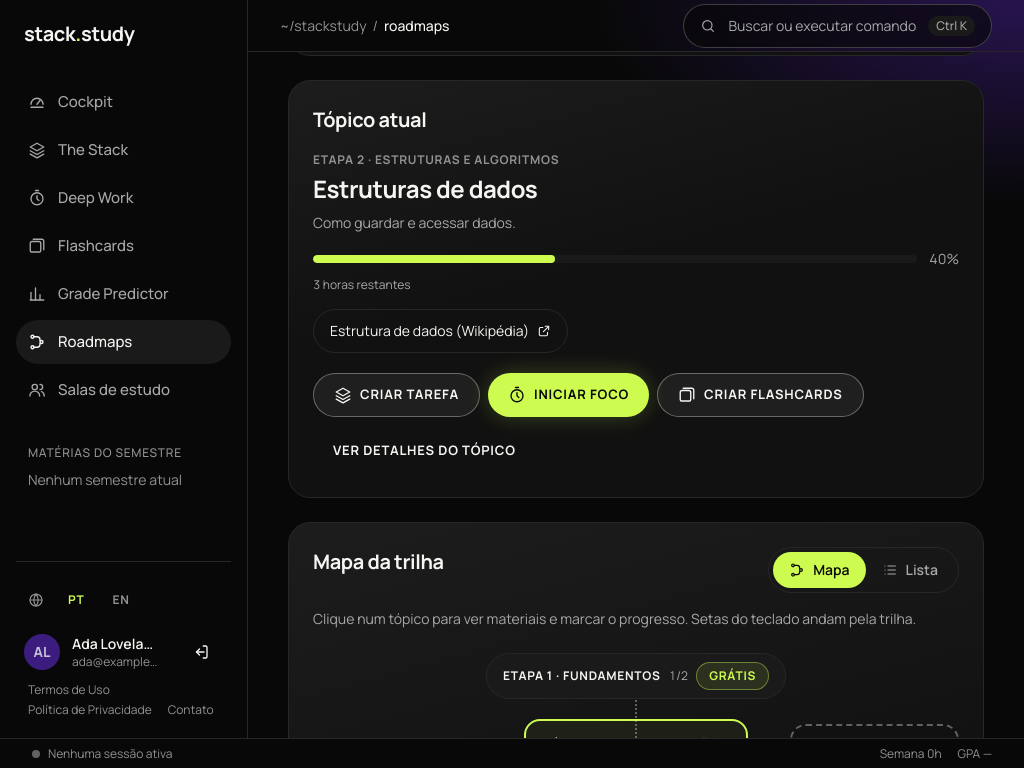
it: Roadmaps › "Iniciar foco" e "Criar tarefa" levam o tópico para as outras telas
Earlier steps of the test are not shown.
(page scrolled)
Click the button "Criar tarefa" at (396, 395), box [313,373,480,417]
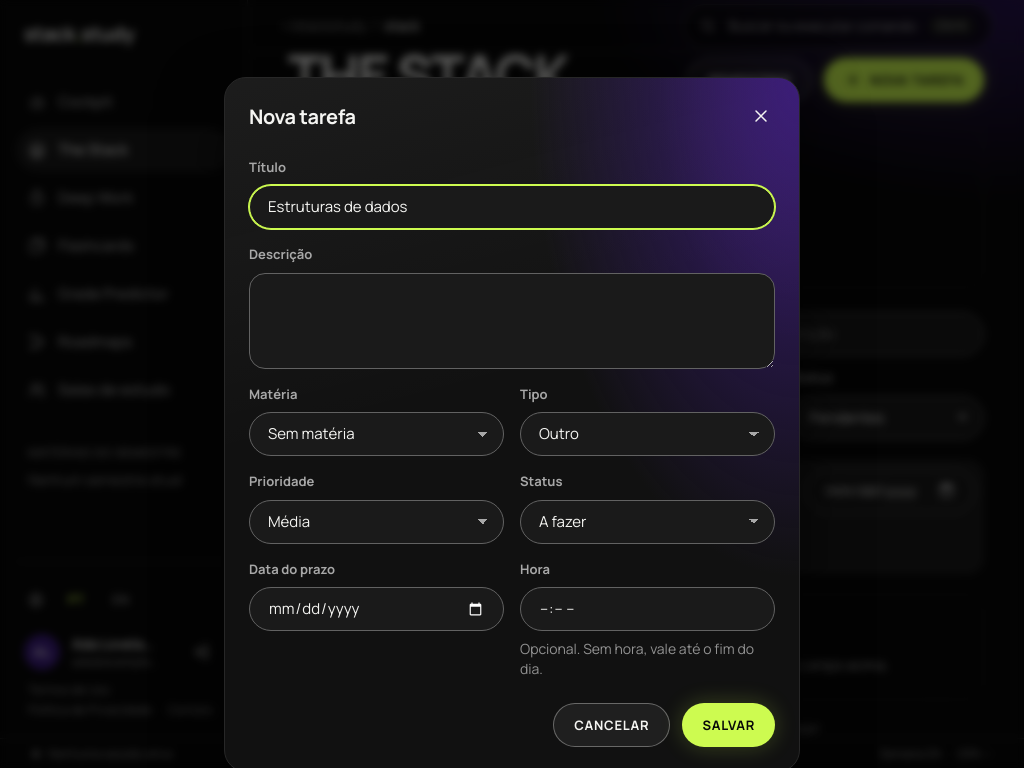
Now the field showing "Estruturas de dados" is shown, box [249,185,775,229]
